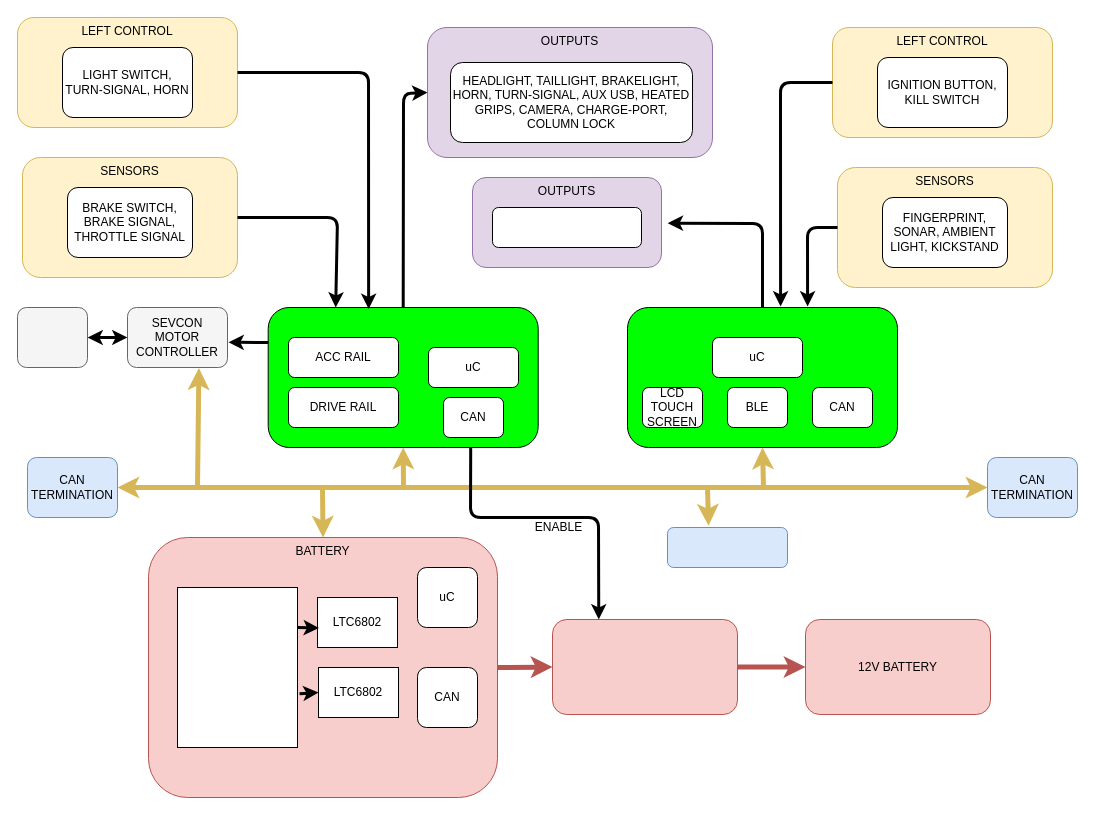
Image size: 1095x815. Some labels were removed from this diagram. Here are the shapes that lost their labels. From the top down, the box of each, then its label:
(492, 206, 642, 248): LCD SCREEN, SPEEDO, LED METER
(16, 306, 88, 368): BLDC H20 MOTOR
(267, 306, 538, 448): BODY CONTROLLER
(626, 306, 898, 448): INTERFACE
(666, 526, 788, 568): ODB PORT
(176, 586, 298, 748): BATTERY STACK 24S 50P 96V 100AHr
(552, 618, 738, 714): DCDC CONVERTER
